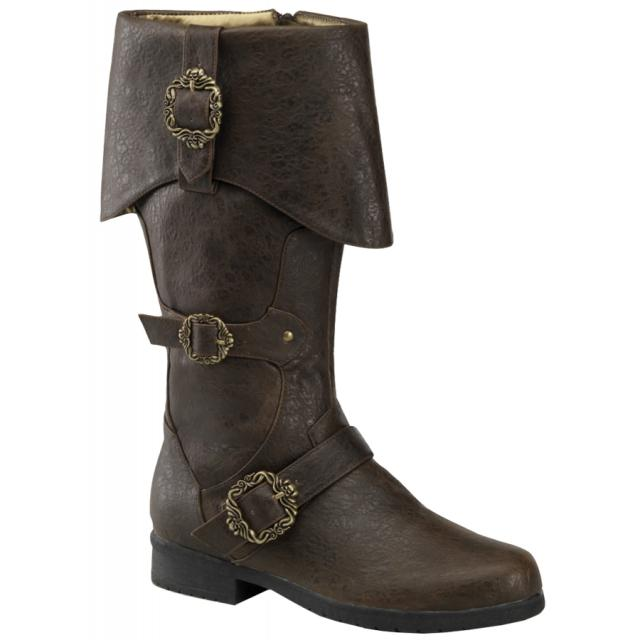boot: (94, 6, 563, 633)
